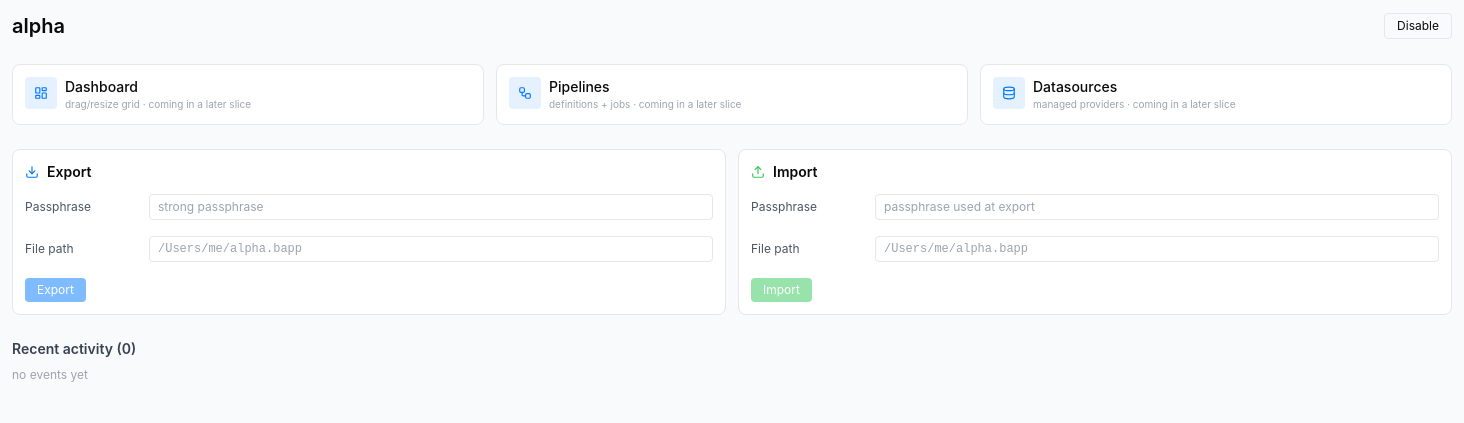
Test: <ApplicationOverview> import/export › Import success summary shows created/skipped counts
In the password field labelled "passphrase used at export": (1157, 206) [875, 194, 1439, 220], type "x"
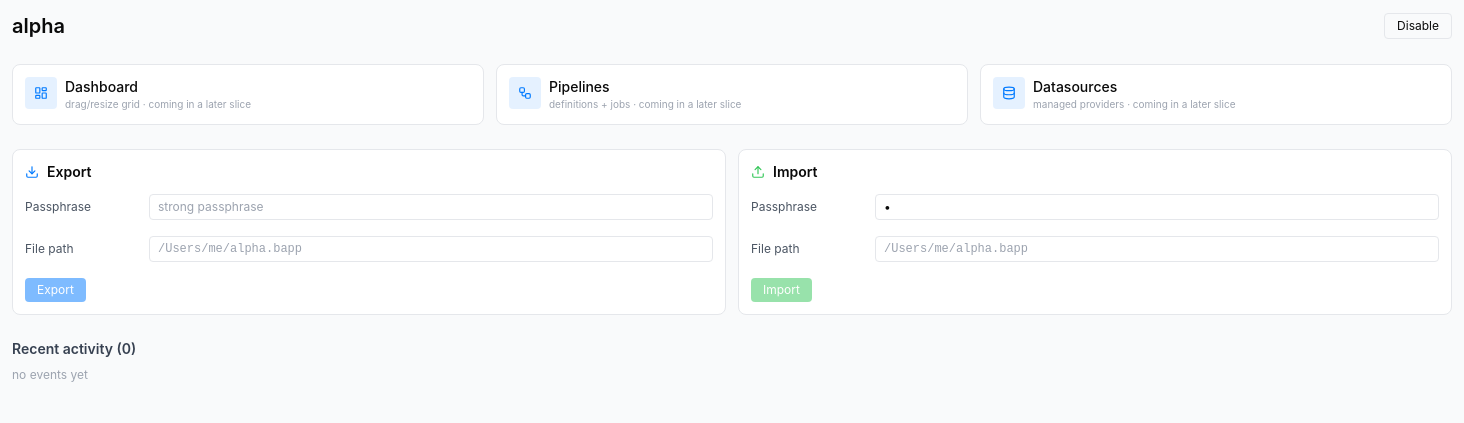
In the field named "file path": (1157, 248) [875, 236, 1439, 262], type "/tmp/in.bapp"
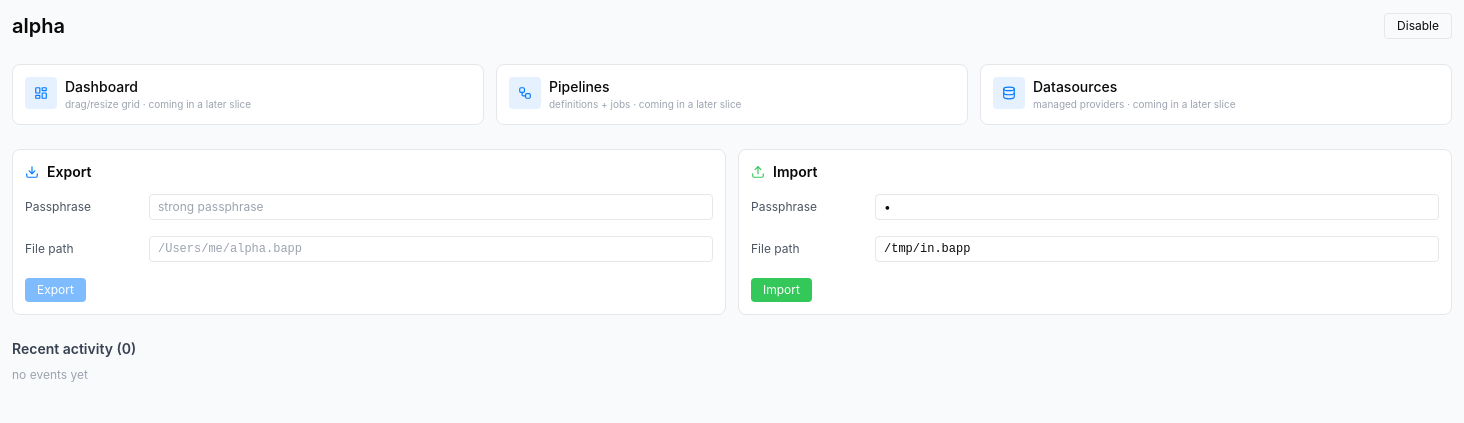
Click the button "Import": (781, 290) [751, 278, 812, 302]
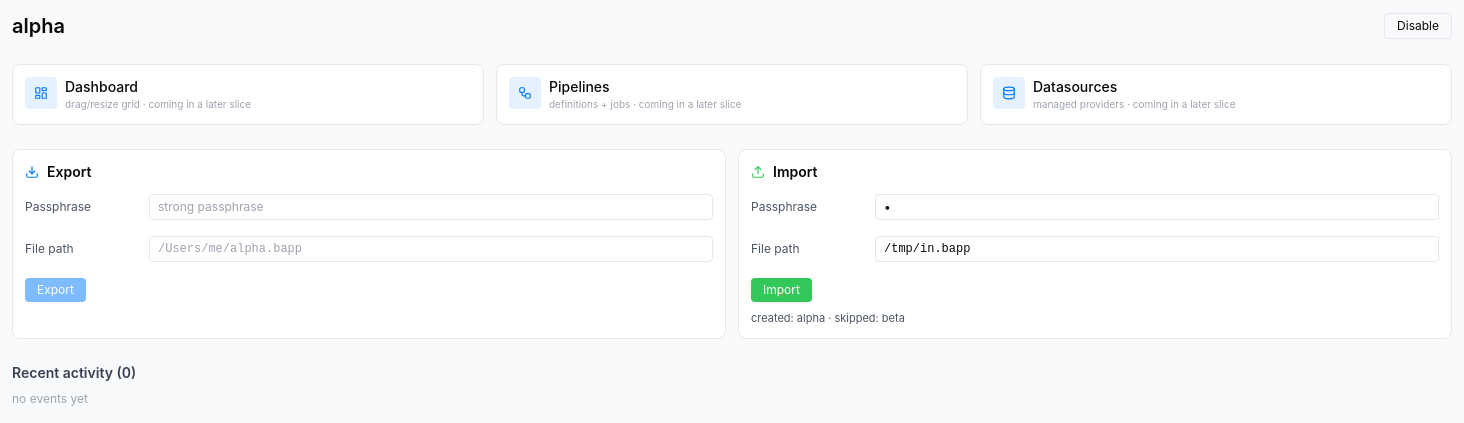
Expected: the text with test id "import-summary" shows "alpha", [797, 310, 825, 324]
Expected: the text with test id "import-summary" shows "beta", [882, 310, 905, 324]
